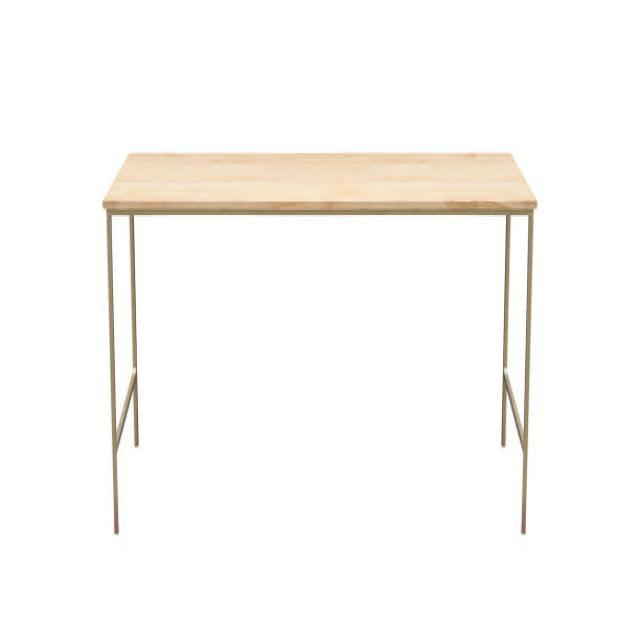table: (101, 150, 538, 537)
